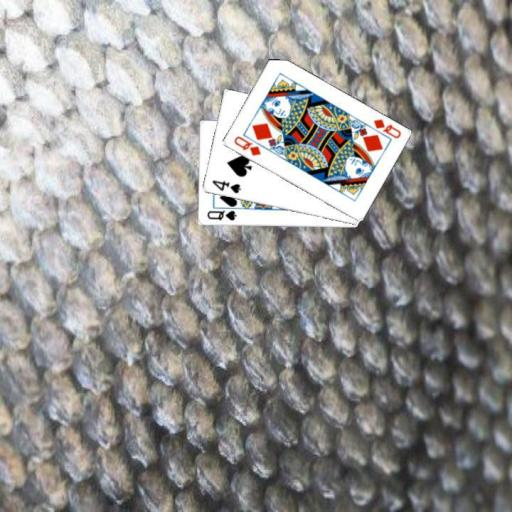4S: (209, 177, 242, 195)
QD: (231, 133, 263, 157), (370, 116, 402, 140)
QS: (204, 208, 238, 223)
